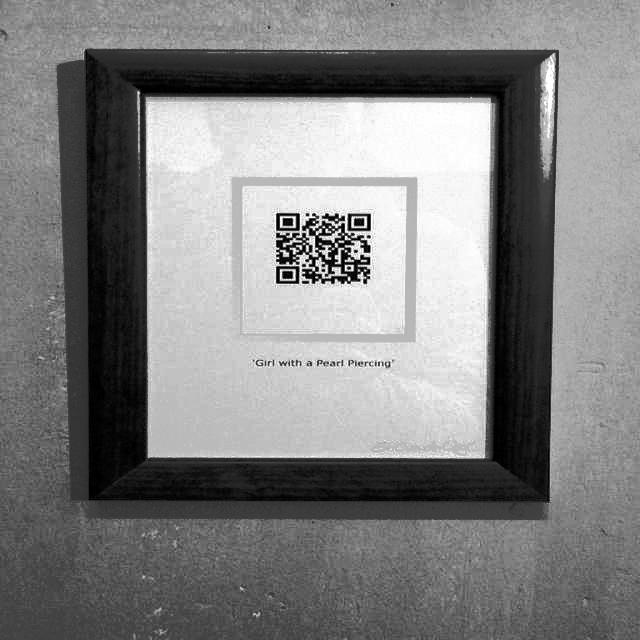qr_code: (276, 214, 370, 283)
